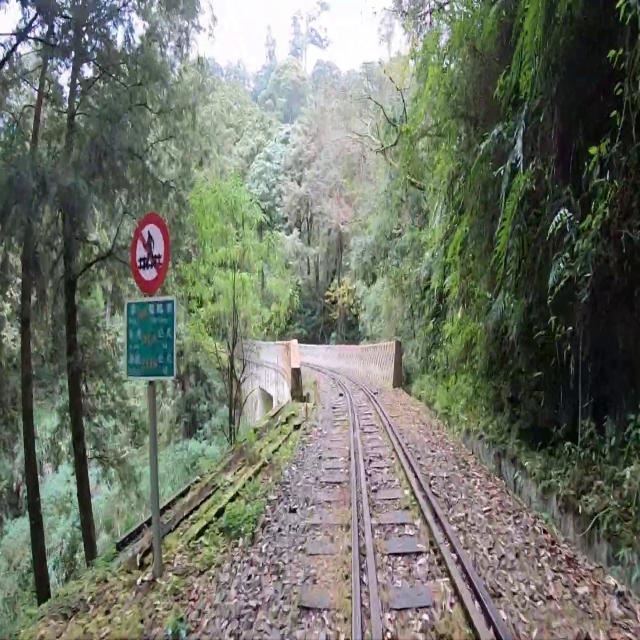rail-track: (348, 383, 478, 639), (355, 444, 374, 639)
